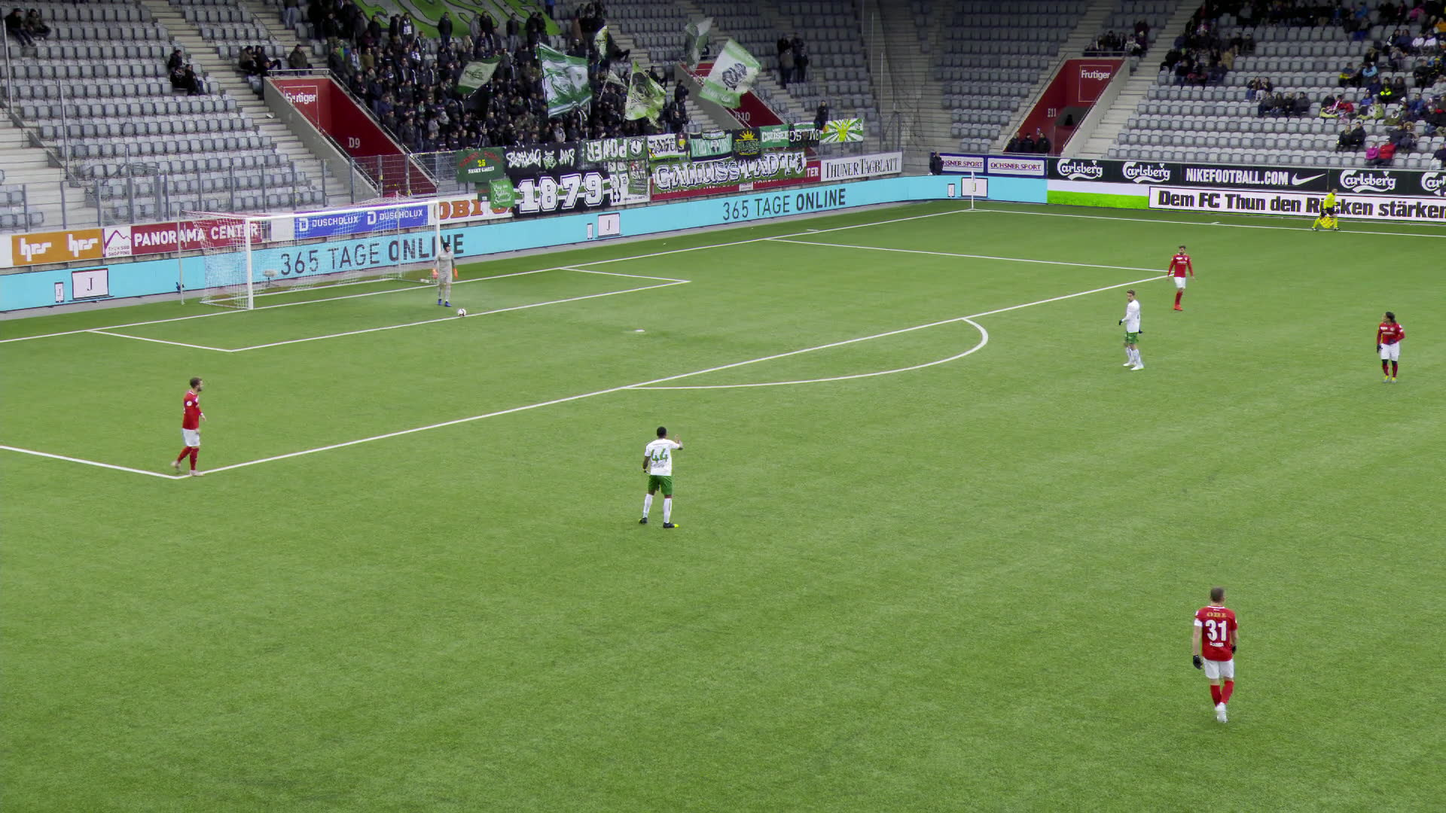ball: (456, 308, 467, 320)
player: (1187, 585, 1241, 726), (636, 425, 684, 529), (167, 376, 211, 479), (1116, 288, 1146, 372), (1374, 311, 1406, 385), (1164, 244, 1193, 312), (431, 242, 459, 308)
referee: (1310, 187, 1338, 233)
